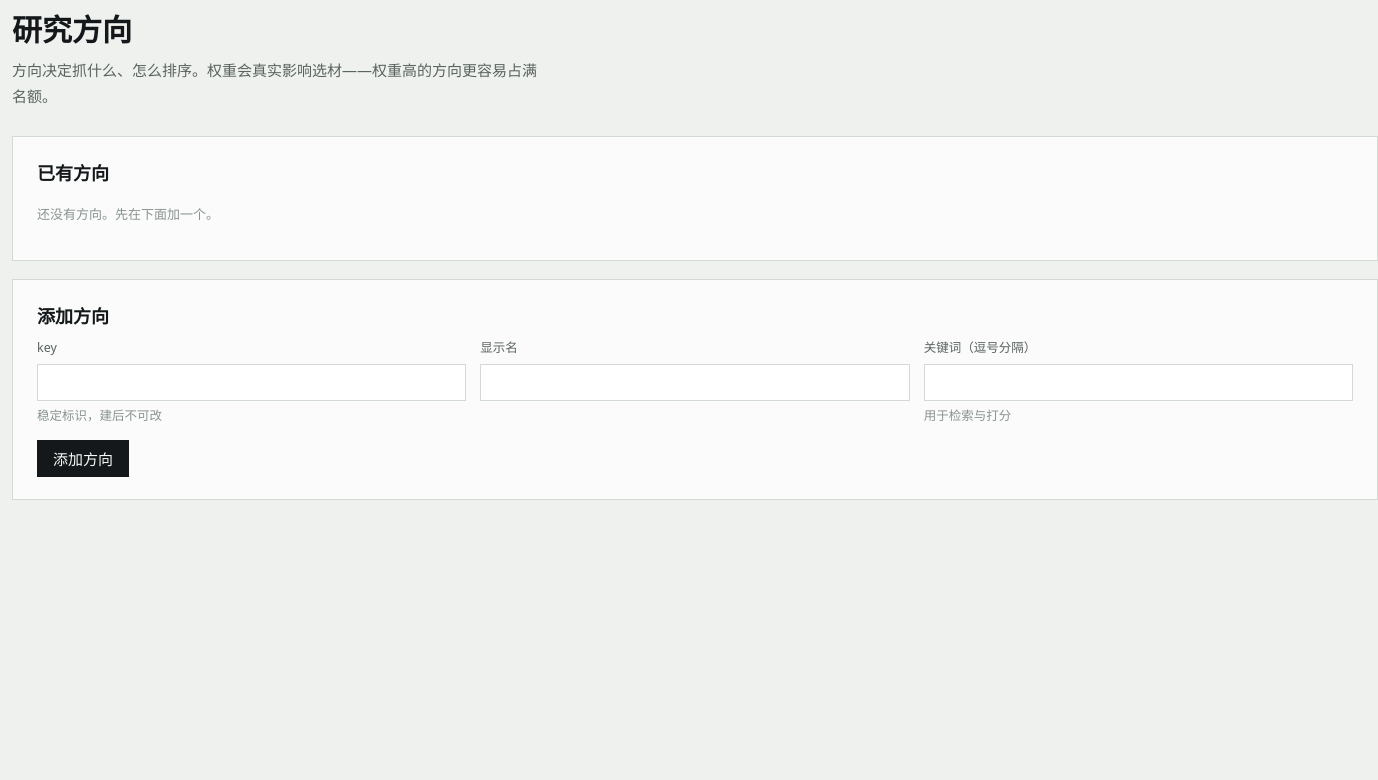
Scenario: TopicsPage › key 冲突时把后端消息显示出来
In the field labelled "key": (252, 382) [37,364,466,401], type "dup"
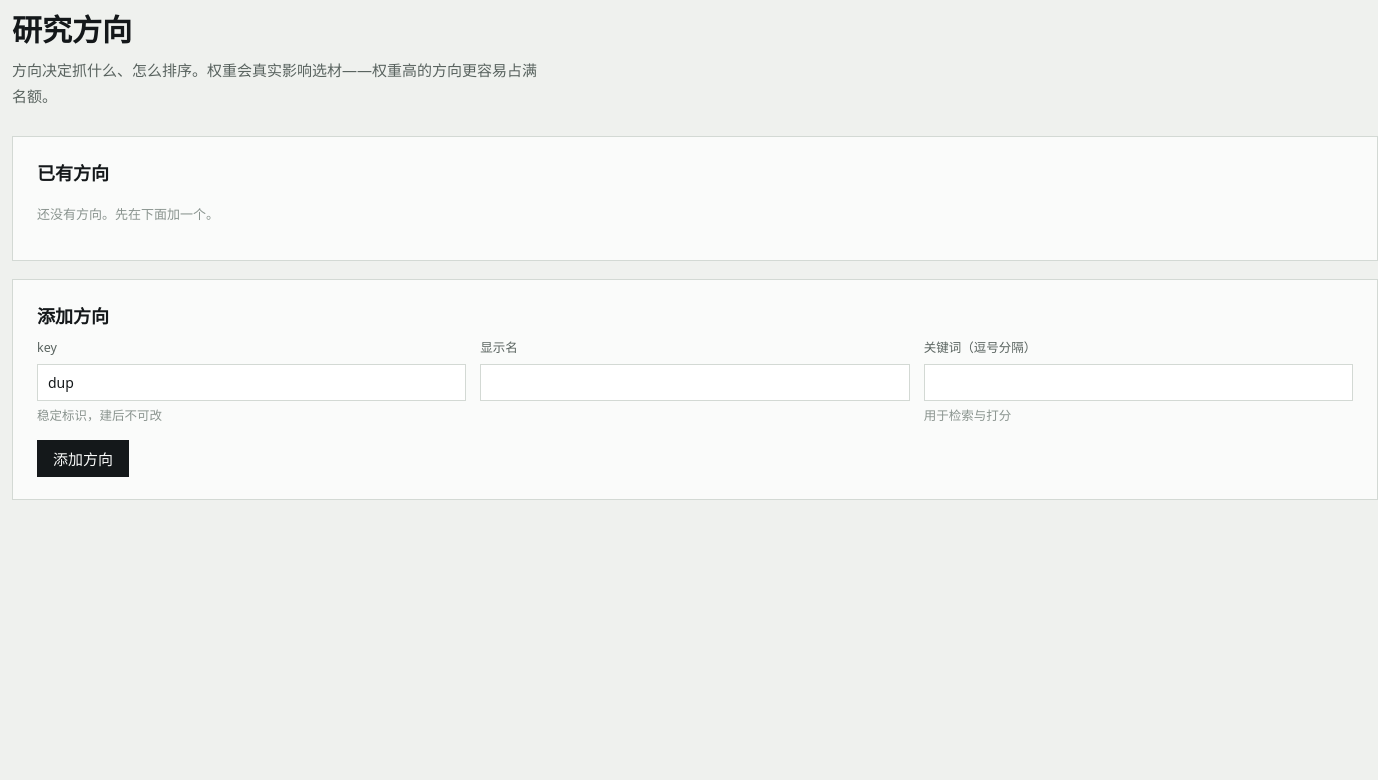
In the field labelled "显示名": (695, 382) [480,364,910,401], type "X"
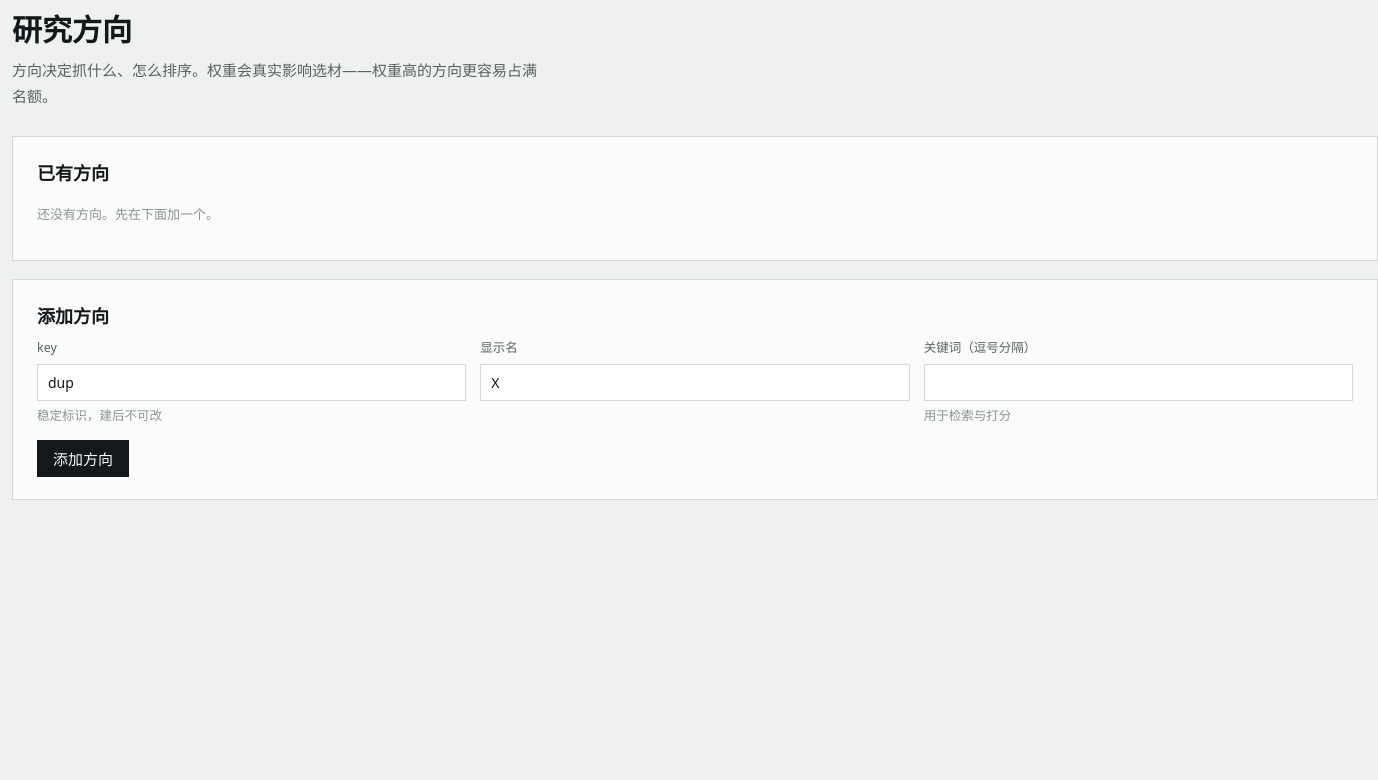
Click the button "添加方向": click(83, 459) [37,440,129,477]
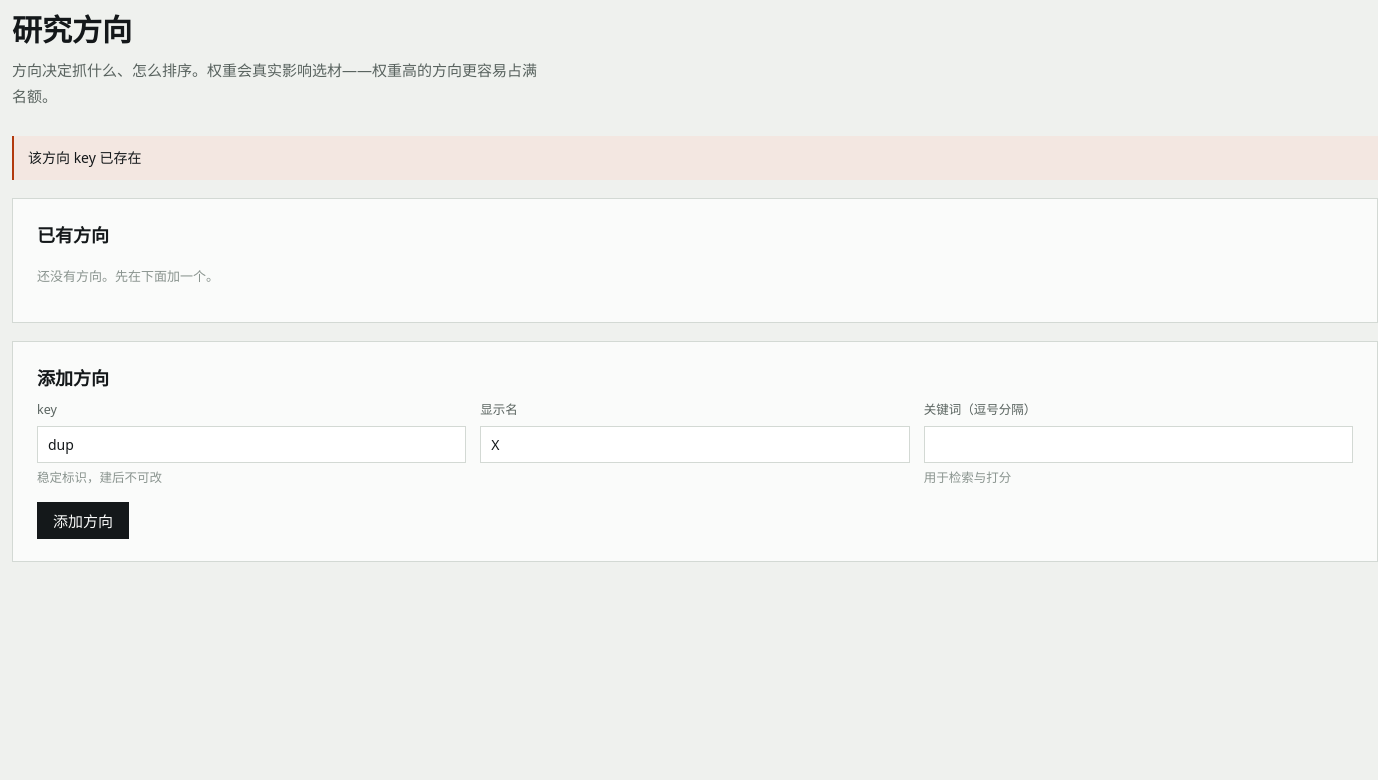
Result: the text "该方向 key 已存在" is shown at [12,136,1377,180]
